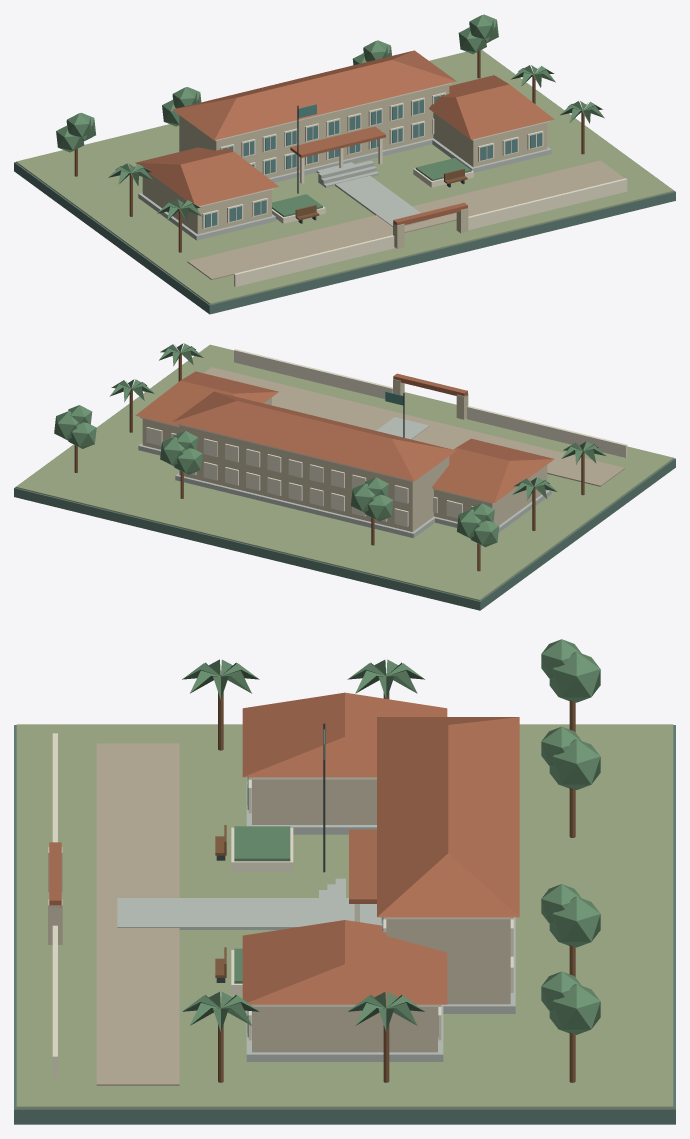
3 renders of one model, top to bottom at view 1: azimuth 30°, elevation 25°; view 2: azimuth 150°, elevation 25°; view 3: azimuth 270°, elevation 25°, orthographic. The views are drawn at different scales.
Visible parts, largest first — view 1: Grass | batched geometry, Terracotta | batched geometry, Sandstone | batched geometry, Ivory | batched geometry, Gravel | batched geometry, Plinth | batched geometry, Leaf | batched geometry, Stone | batched geometry, Glass | batched geometry, Timber | batched geometry; view 2: Grass | batched geometry, Terracotta | batched geometry, Sandstone | batched geometry, Ivory | batched geometry, Leaf | batched geometry, Plinth | batched geometry, Gravel | batched geometry, Stone | batched geometry, Timber | batched geometry; view 3: Grass | batched geometry, Terracotta | batched geometry, Gravel | batched geometry, Sandstone | batched geometry, Leaf | batched geometry, Plinth | batched geometry, Stone | batched geometry, Ivory | batched geometry, Timber | batched geometry.
Part boxes in pixels (x1=…): Grass | batched geometry: x1=16, y1=50, x2=673, y2=304; Terracotta | batched geometry: x1=135, y1=50, x2=554, y2=225; Sandstone | batched geometry: x1=142, y1=84, x2=547, y2=248; Ivory | batched geometry: x1=199, y1=82, x2=627, y2=286; Gravel | batched geometry: x1=187, y1=160, x2=624, y2=279; Plinth | batched geometry: x1=14, y1=53, x2=675, y2=314; Leaf | batched geometry: x1=56, y1=14, x2=604, y2=221; Stone | batched geometry: x1=138, y1=138, x2=551, y2=240; Glass | batched geometry: x1=205, y1=94, x2=542, y2=227; Timber | batched geometry: x1=74, y1=50, x2=584, y2=252; Grass | batched geometry: x1=16, y1=344, x2=673, y2=600; Terracotta | batched geometry: x1=135, y1=371, x2=554, y2=503; Sandstone | batched geometry: x1=142, y1=379, x2=547, y2=531; Ivory | batched geometry: x1=140, y1=349, x2=627, y2=526; Leaf | batched geometry: x1=54, y1=343, x2=605, y2=547; Plinth | batched geometry: x1=14, y1=348, x2=675, y2=610; Gravel | batched geometry: x1=203, y1=367, x2=624, y2=486; Stone | batched geometry: x1=138, y1=417, x2=551, y2=538; Timber | batched geometry: x1=74, y1=354, x2=584, y2=571; Grass | batched geometry: x1=16, y1=724, x2=673, y2=1108; Terracotta | batched geometry: x1=49, y1=692, x2=519, y2=1004; Gravel | batched geometry: x1=96, y1=743, x2=179, y2=1085; Sandstone | batched geometry: x1=48, y1=779, x2=510, y2=1052; Leaf | batched geometry: x1=182, y1=639, x2=600, y2=1034; Plinth | batched geometry: x1=14, y1=725, x2=675, y2=1124; Stone | batched geometry: x1=117, y1=777, x2=515, y2=1061; Ivory | batched geometry: x1=52, y1=733, x2=513, y2=1077; Timber | batched geometry: x1=215, y1=675, x2=575, y2=1082.
Bounding box in the file's own units: 175 × 34.96 × 127.
